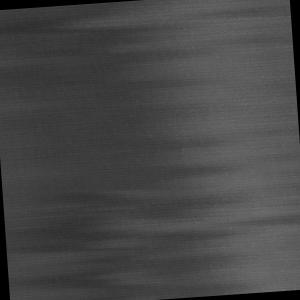Wrinkle: (3, 167, 300, 300), (1, 1, 190, 102)
